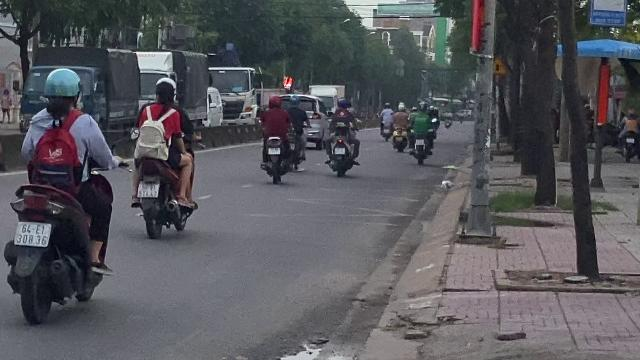helmet: (41, 67, 83, 109)
licenseplate: (15, 222, 50, 246), (138, 183, 158, 197)
motorcyclist: (1, 66, 117, 324), (125, 77, 198, 239)
nohelmet: (153, 81, 175, 109)
